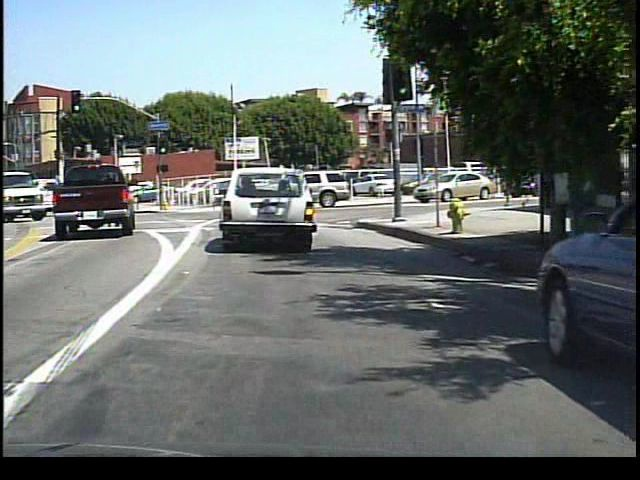person: (392, 165, 410, 203)
